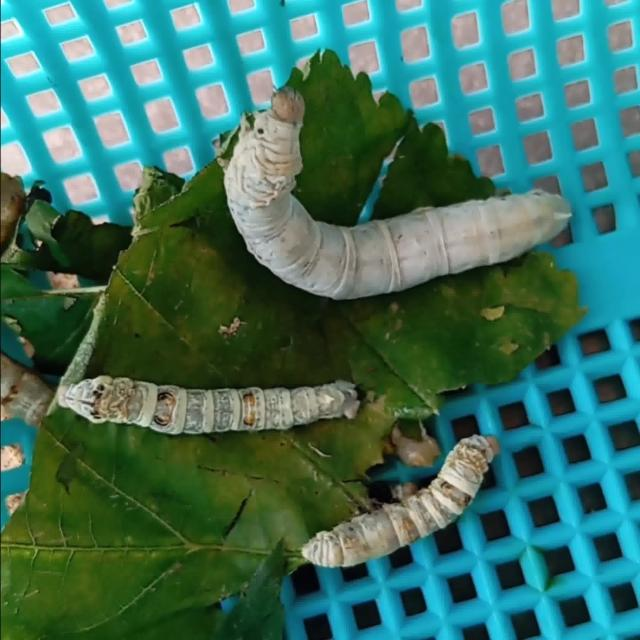Grasserie: (222, 68, 578, 310), (298, 440, 521, 573), (41, 350, 375, 437)
